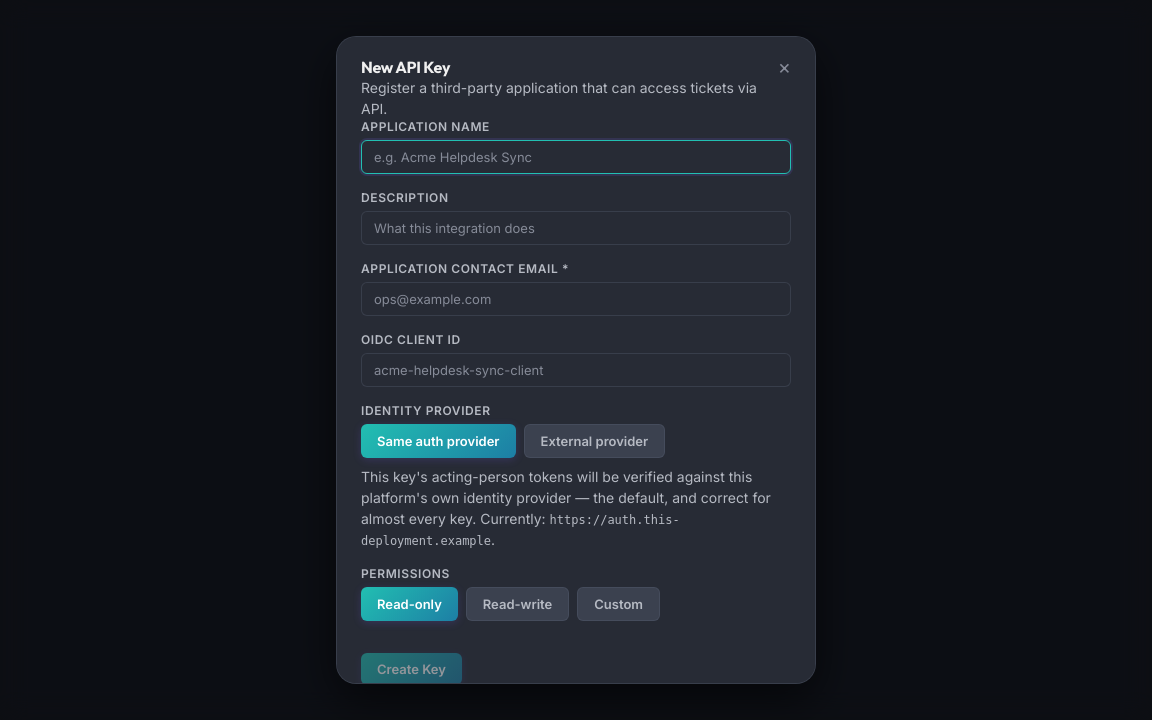
Test case: CreateApiKeyModal (ADR-012 Phase A spec R7/R8, PR A5) › shows the raw key exactly once after successful creation
Type "Acme Helpdesk Sync" into the field with placeholder "e.g. Acme Helpdesk Sync". click: (576, 157)
box: [361,140,791,174]
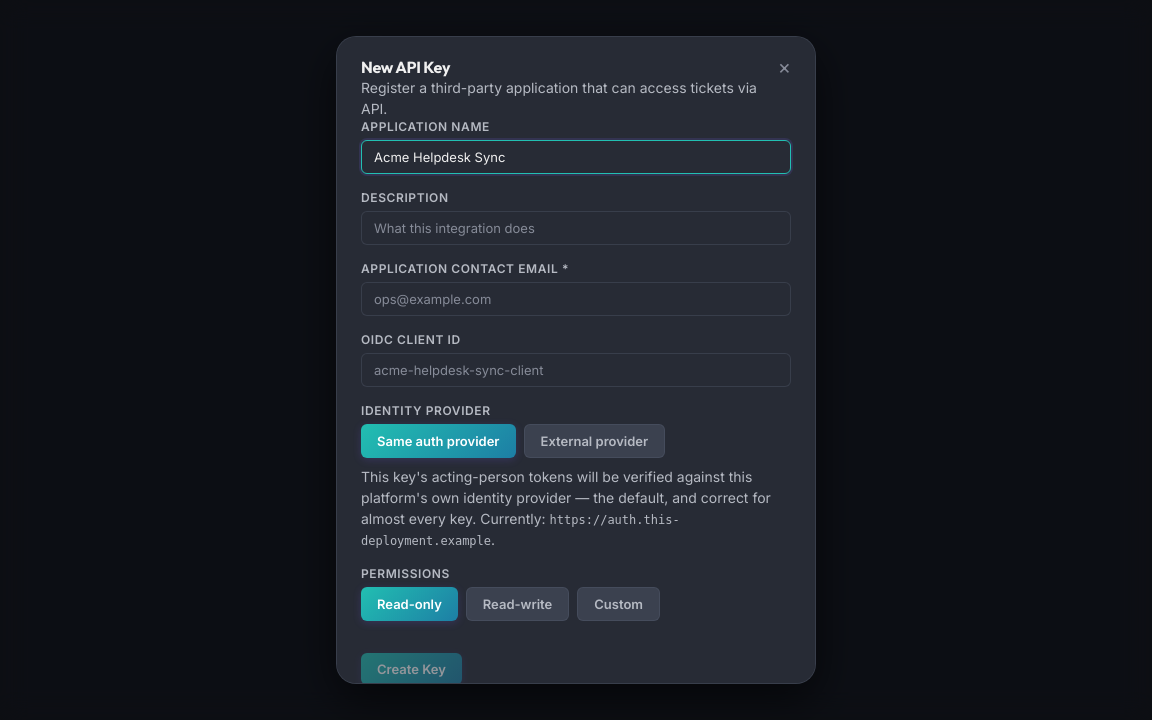
Type "ops@acme.example" into the field with placeholder "ops@example.com". click: (576, 299)
box: [361,282,791,316]
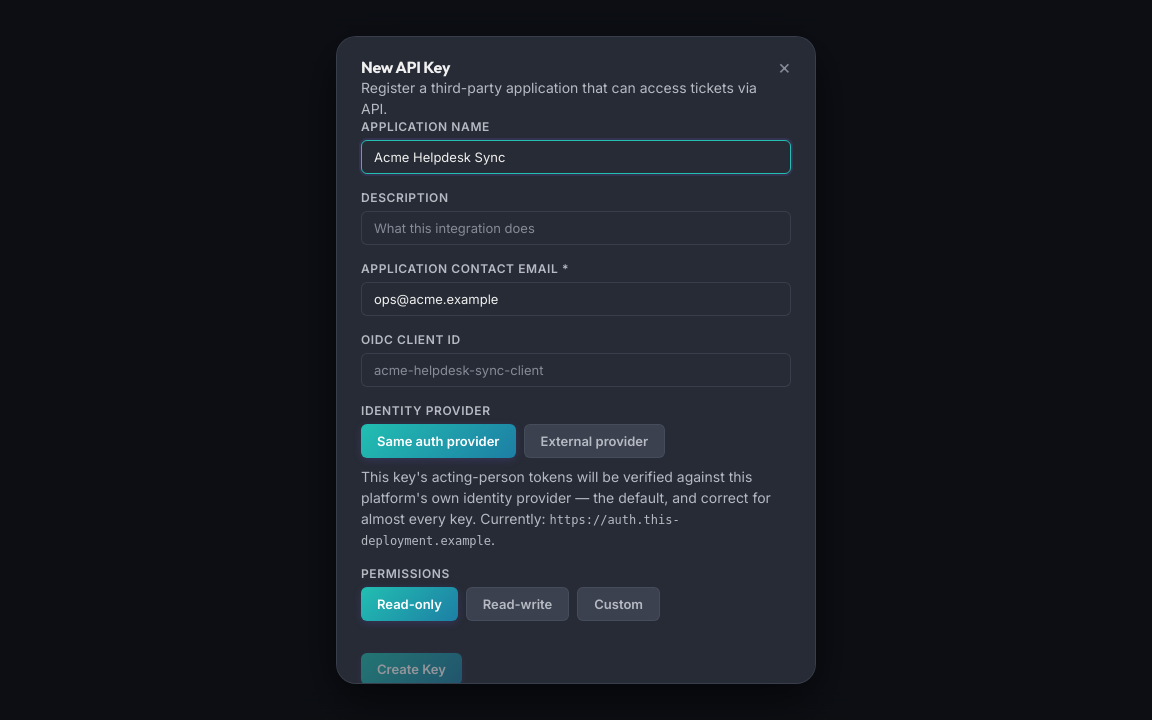
Type "acme-client" into the field with placeholder "acme-helpdesk-sync-client". click: (576, 370)
box: [361,353,791,387]
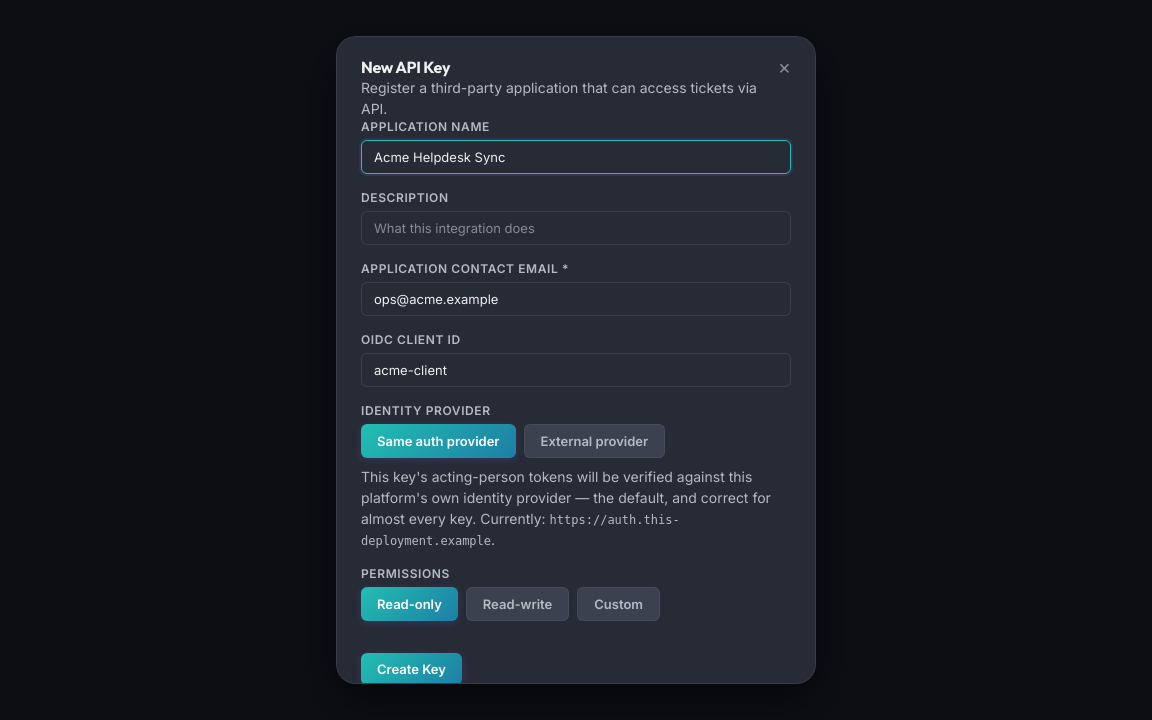
Click the button "Create Key". click: (411, 669)
box: [361,653,462,685]
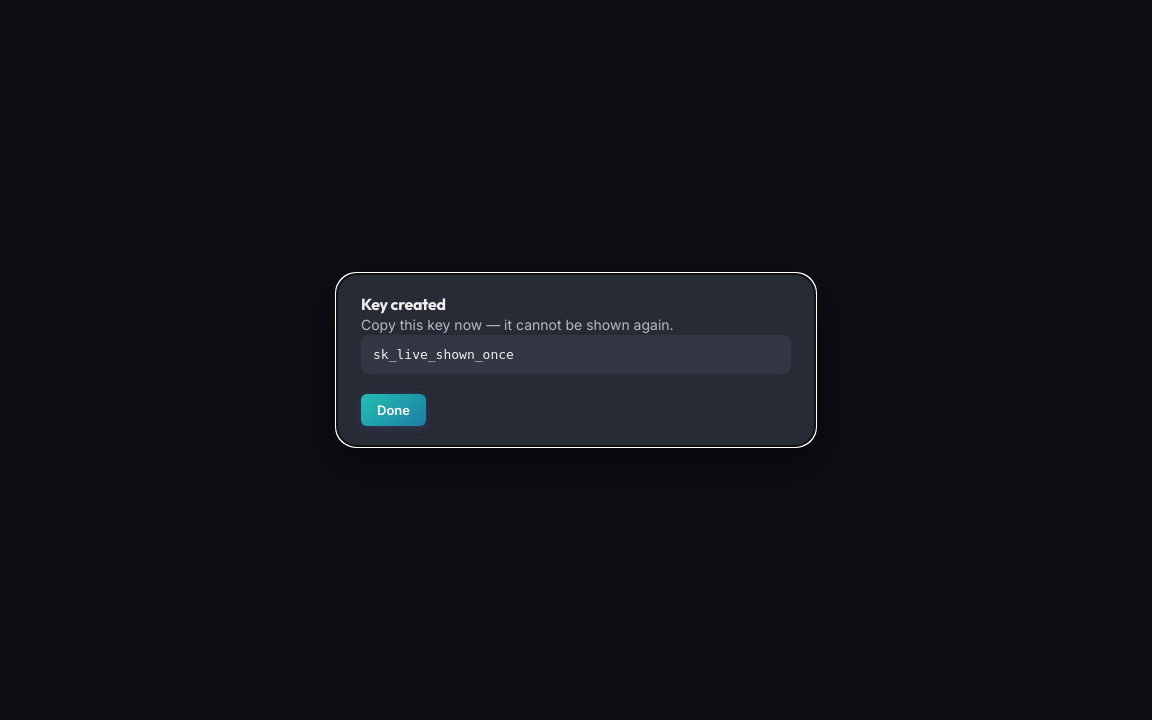
Expected: the text "sk_live_shown_once" is shown, [361,335,791,374]
